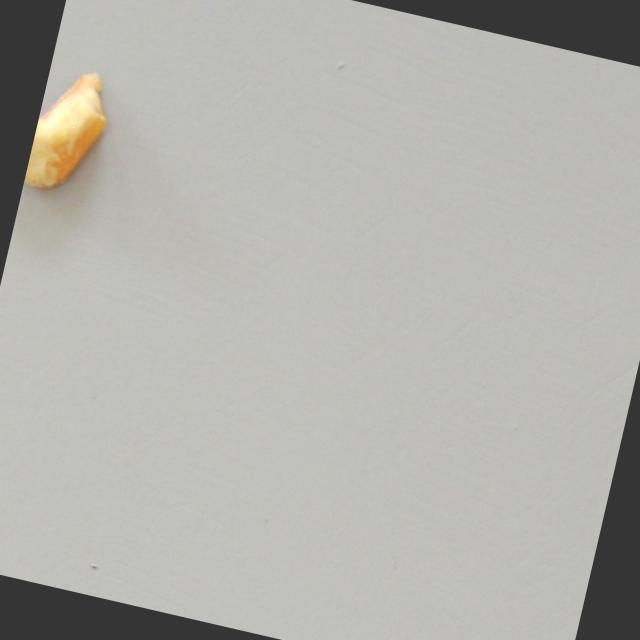dañado: (23, 59, 121, 200)
